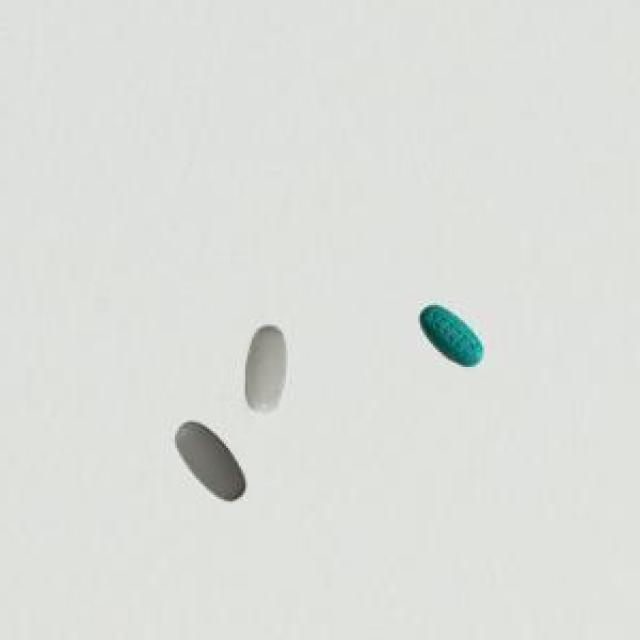Neozep: (154, 416, 248, 508), (404, 296, 496, 372), (235, 312, 295, 418)
